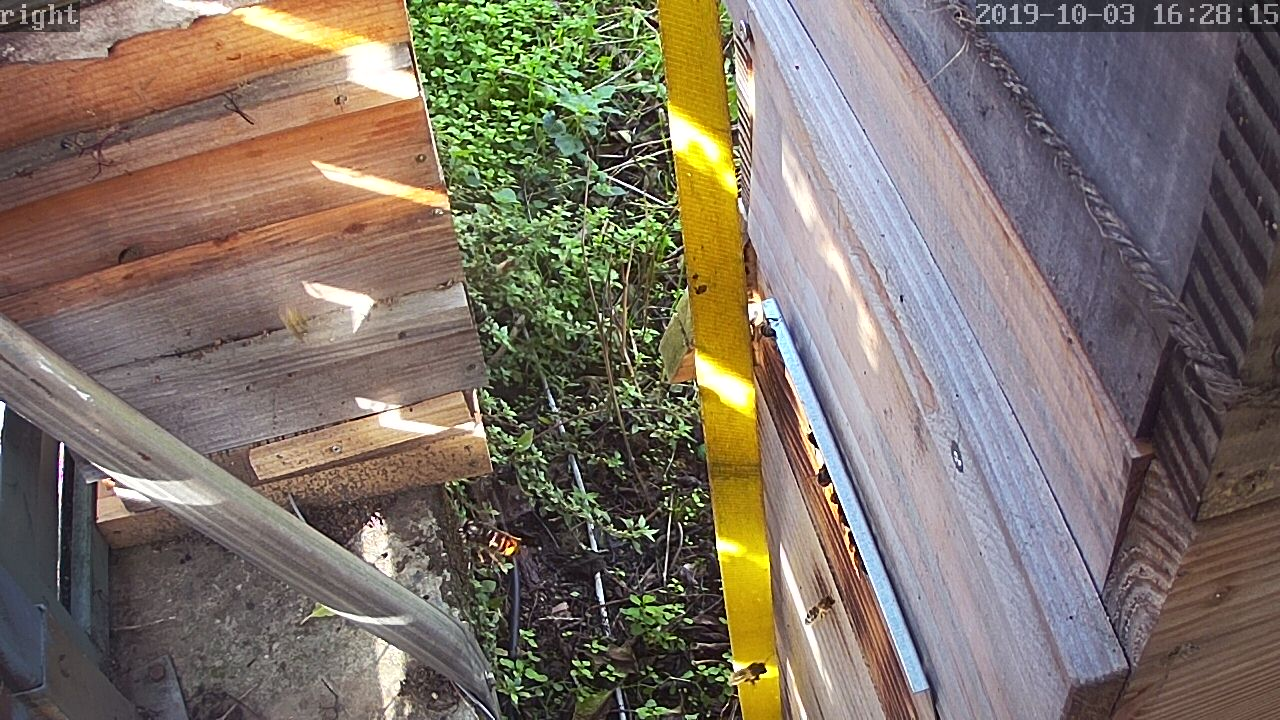bee: (799, 591, 838, 629), (730, 658, 770, 693), (815, 462, 833, 489)
hornet: (450, 513, 524, 565)
